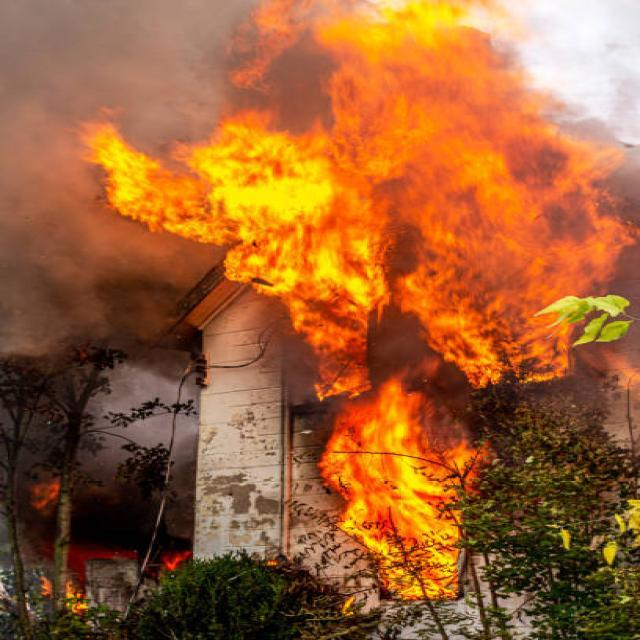Fire: (70, 0, 640, 549)
Smoke: (2, 0, 212, 381)
